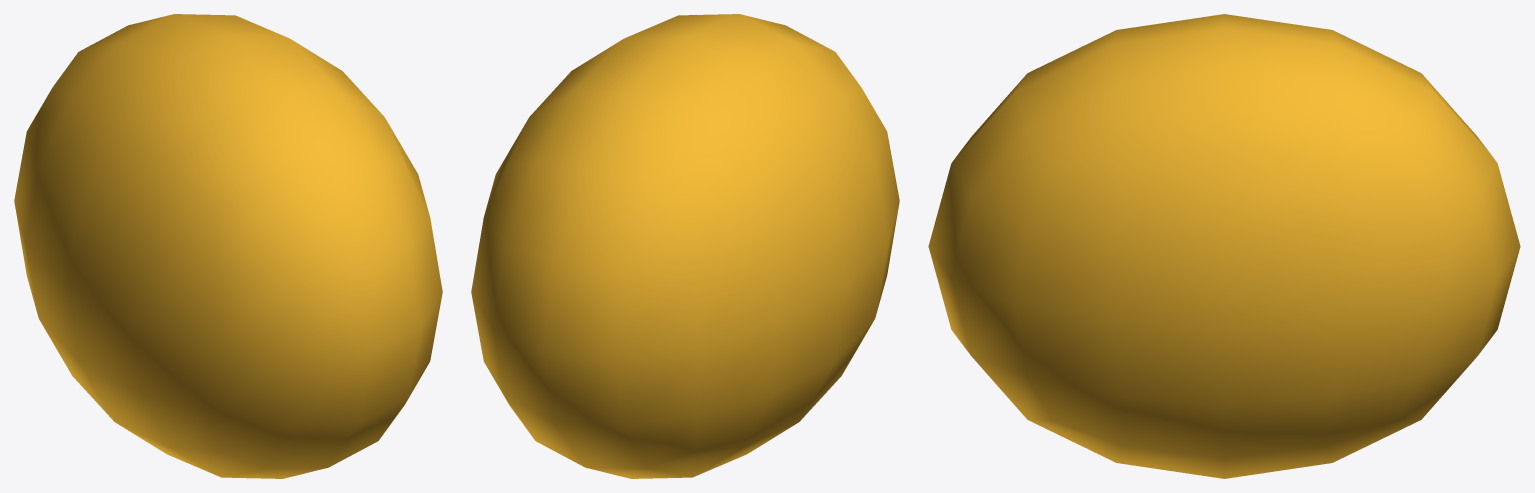
File: nervoso-anterior-cochlear-nucleus-r.glb
3 renders of one model, left to right at view 1: azimuth 30°, elevation 25°; view 2: azimuth 150°, elevation 25°; view 3: azimuth 270°, elevation 25°, orthographic. The views are drawn at different scales.
Visible parts, largest first — view 1: Anterior cochlear nucleus.r; view 2: Anterior cochlear nucleus.r; view 3: Anterior cochlear nucleus.r.
Part boxes in pixels (x1=…): Anterior cochlear nucleus.r: x1=14, y1=14, x2=442, y2=478; Anterior cochlear nucleus.r: x1=471, y1=14, x2=899, y2=478; Anterior cochlear nucleus.r: x1=928, y1=14, x2=1520, y2=478.
Bounding box in the file's own units: 0.00161 × 0.00199 × 0.00245.
